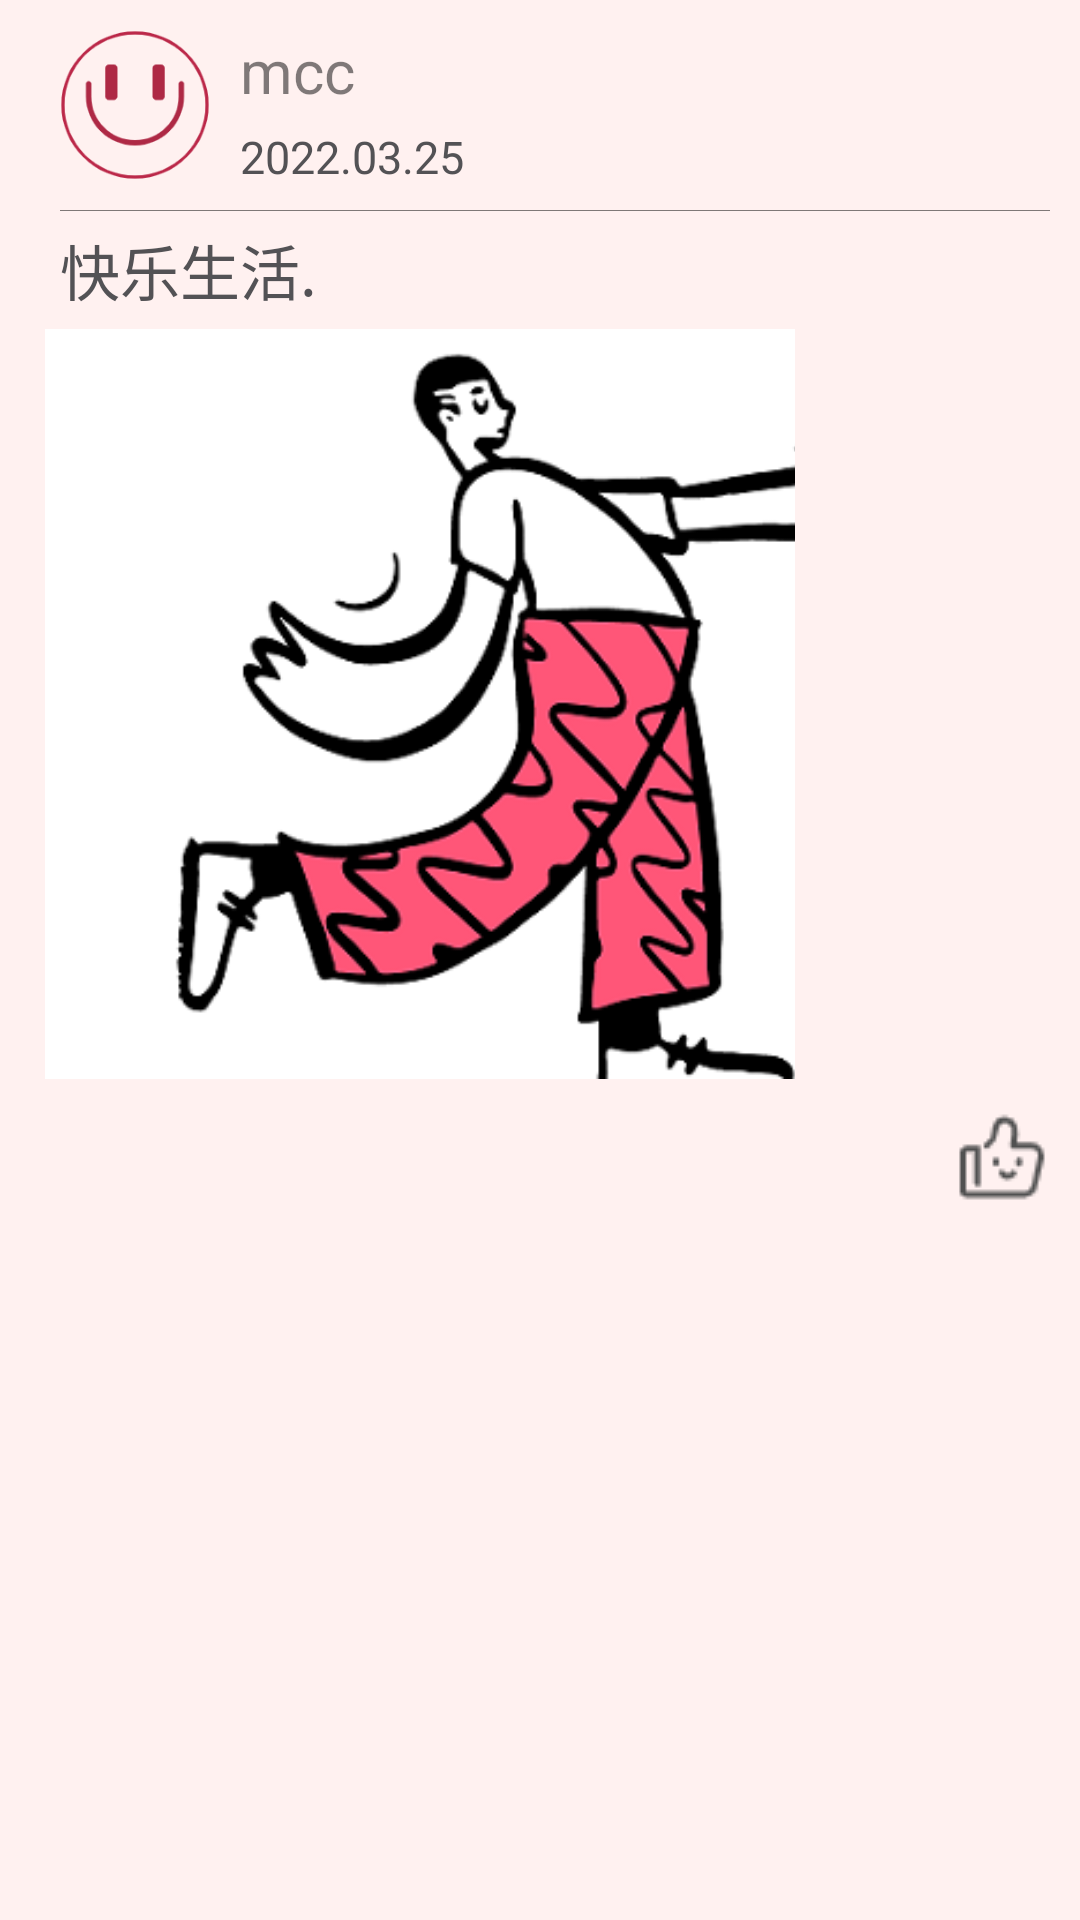

Point at icon controls on the screen. Image size 1080px×1920px, points as (x=x, y=y).
like radiobutton: (x=1002, y=1157)
